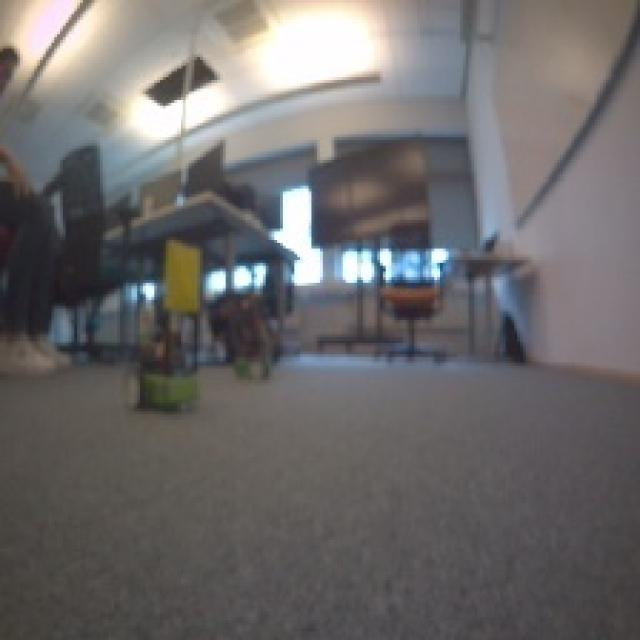robot: (134, 366, 200, 411), (232, 337, 276, 384)
